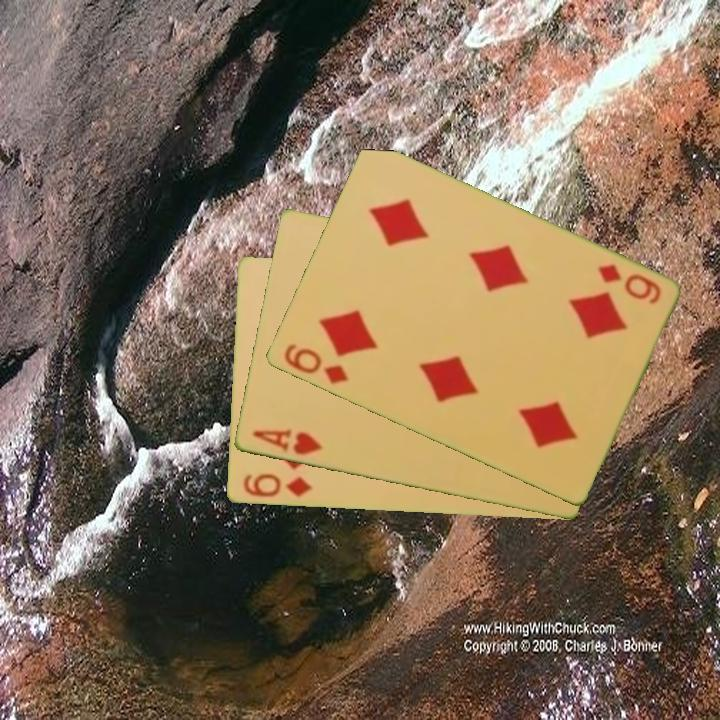6d: (279, 340, 351, 387), (593, 261, 664, 308), (239, 470, 315, 501)
Ah: (248, 426, 325, 458)
